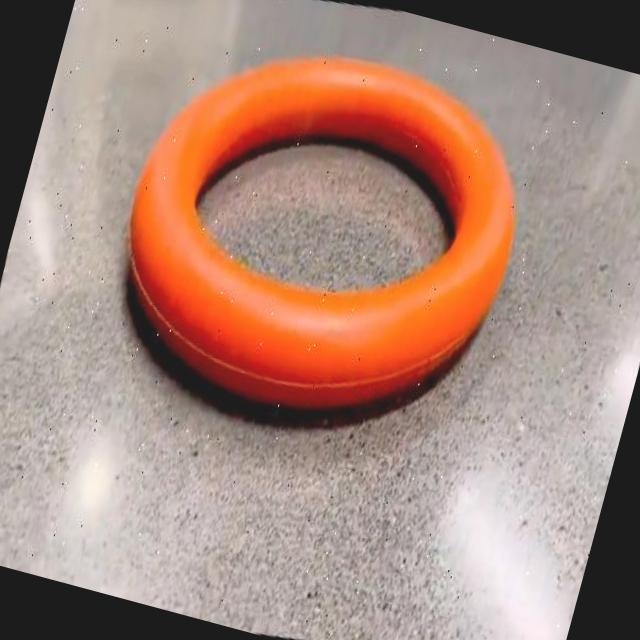note: (129, 56, 514, 407)
